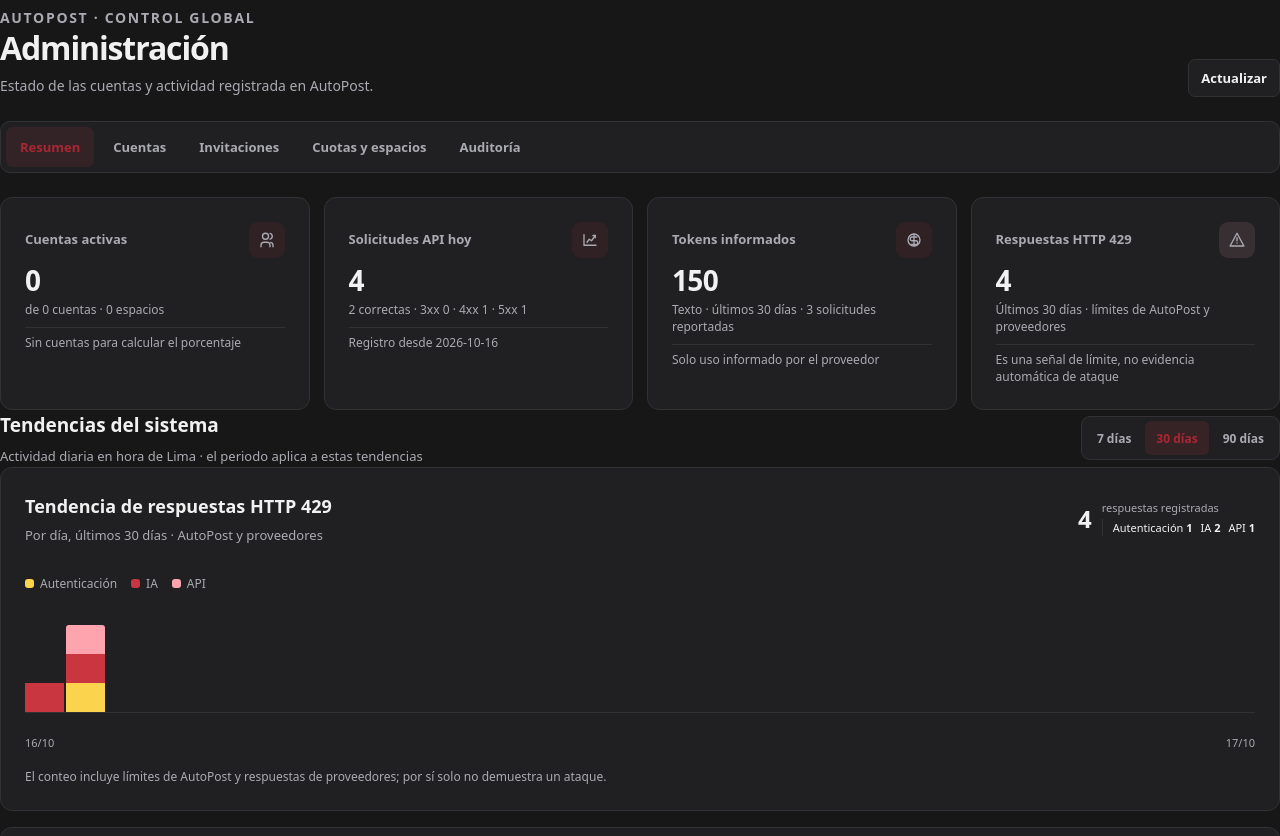
Test: AdminComponent audit pagination › lets an administrator require approval globally and confirms the saved policy
Step 1. Click the button "Cuotas y espacios" → click(369, 147), box [298,127,440,167]
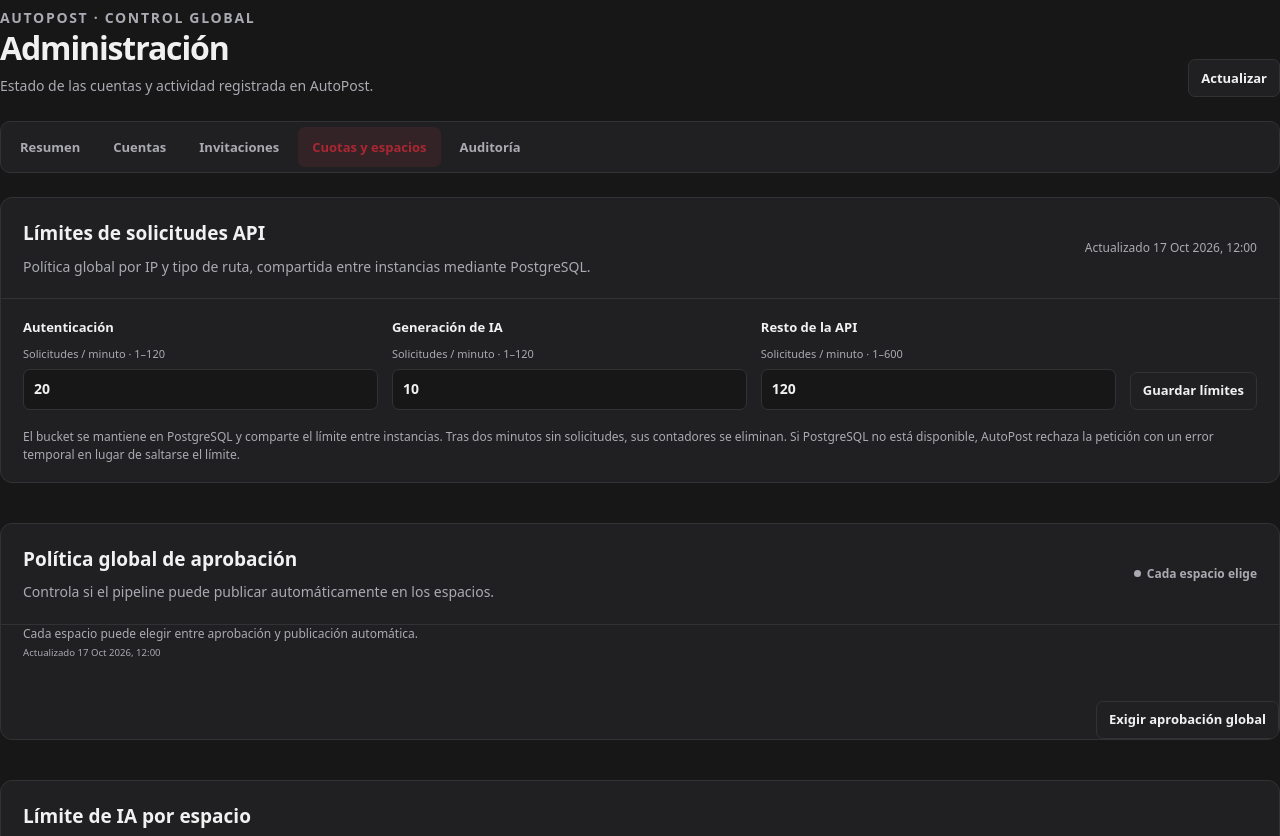
Step 2. Click the button "Exigir aprobación global" → click(1188, 720), box [1096,700,1279,738]
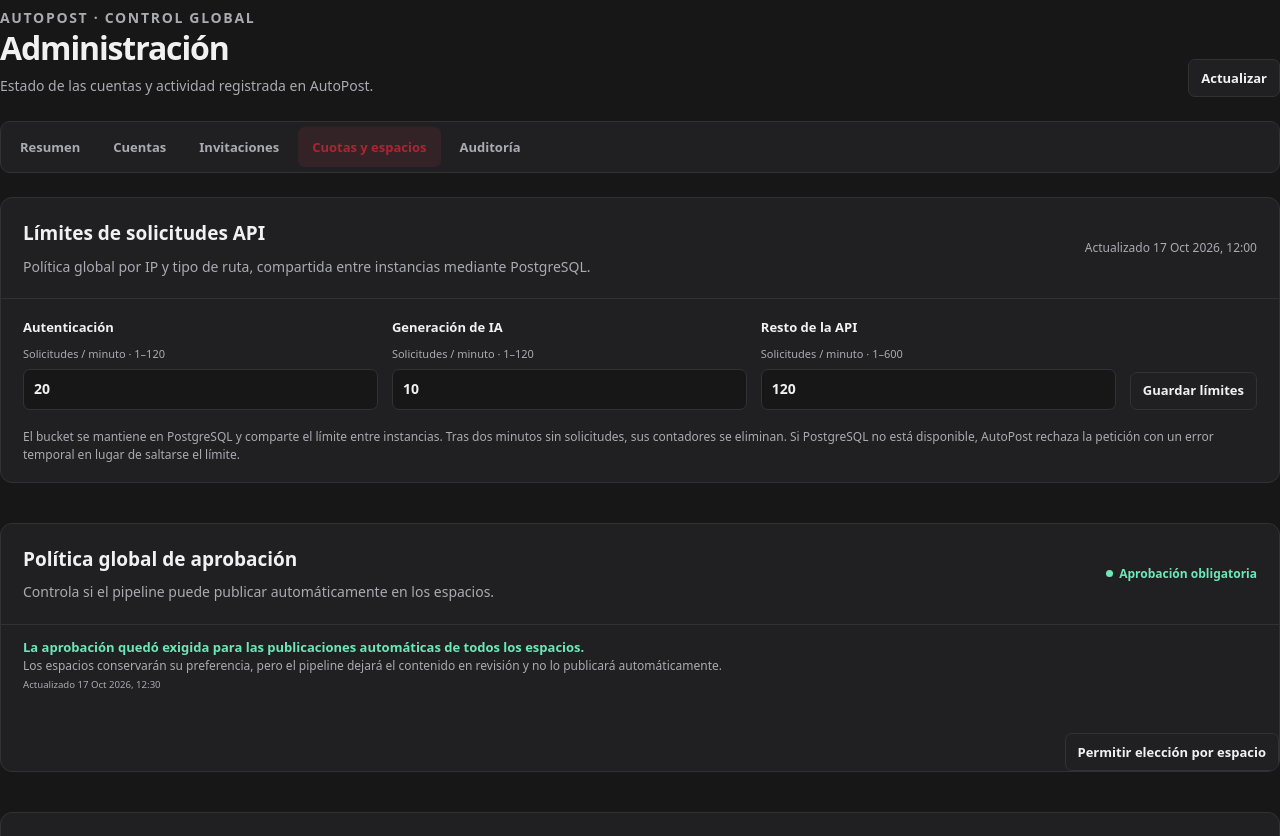
Expected: the text "Aprobación obligatoria" is shown, [1106,564,1257,583]
